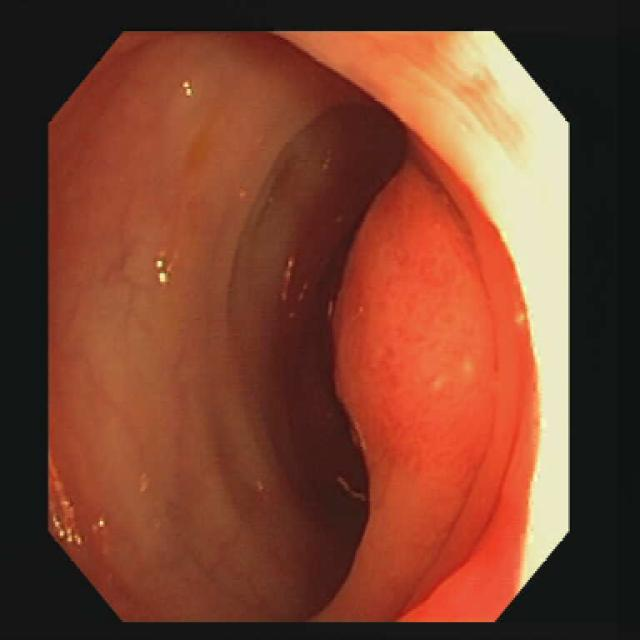tumor: (337, 162, 517, 502)
